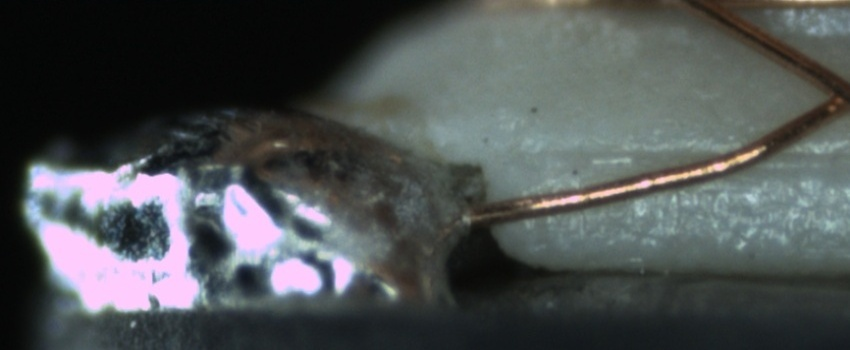CL: (802, 59, 850, 123)
DL: (542, 128, 845, 188)
